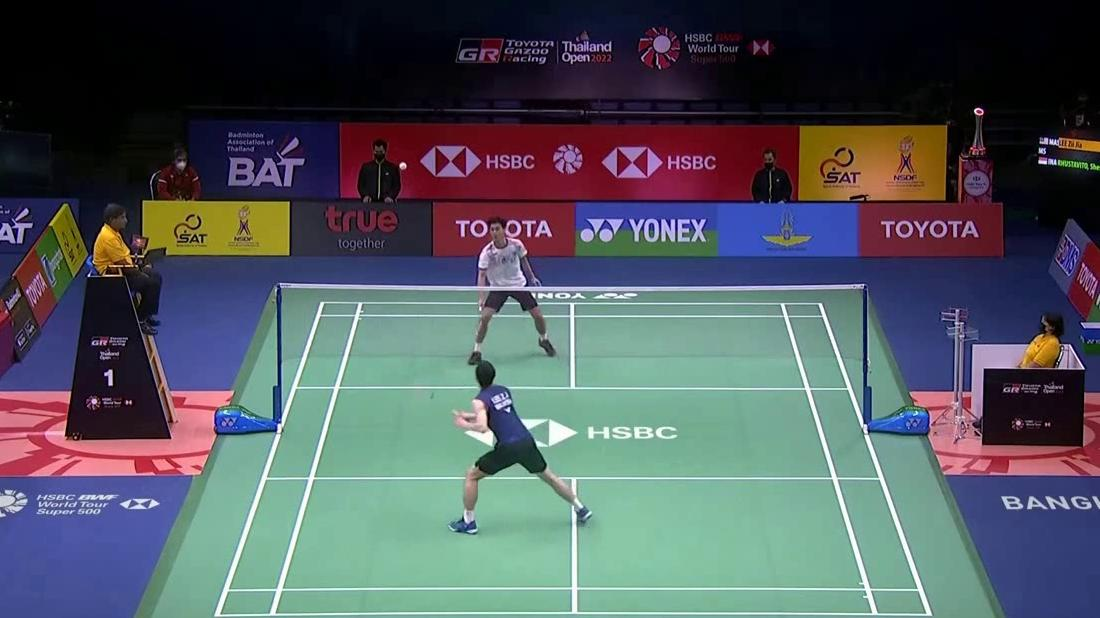racket: (407, 381, 468, 420), (468, 301, 486, 337)
shuttle: (399, 161, 406, 170)
